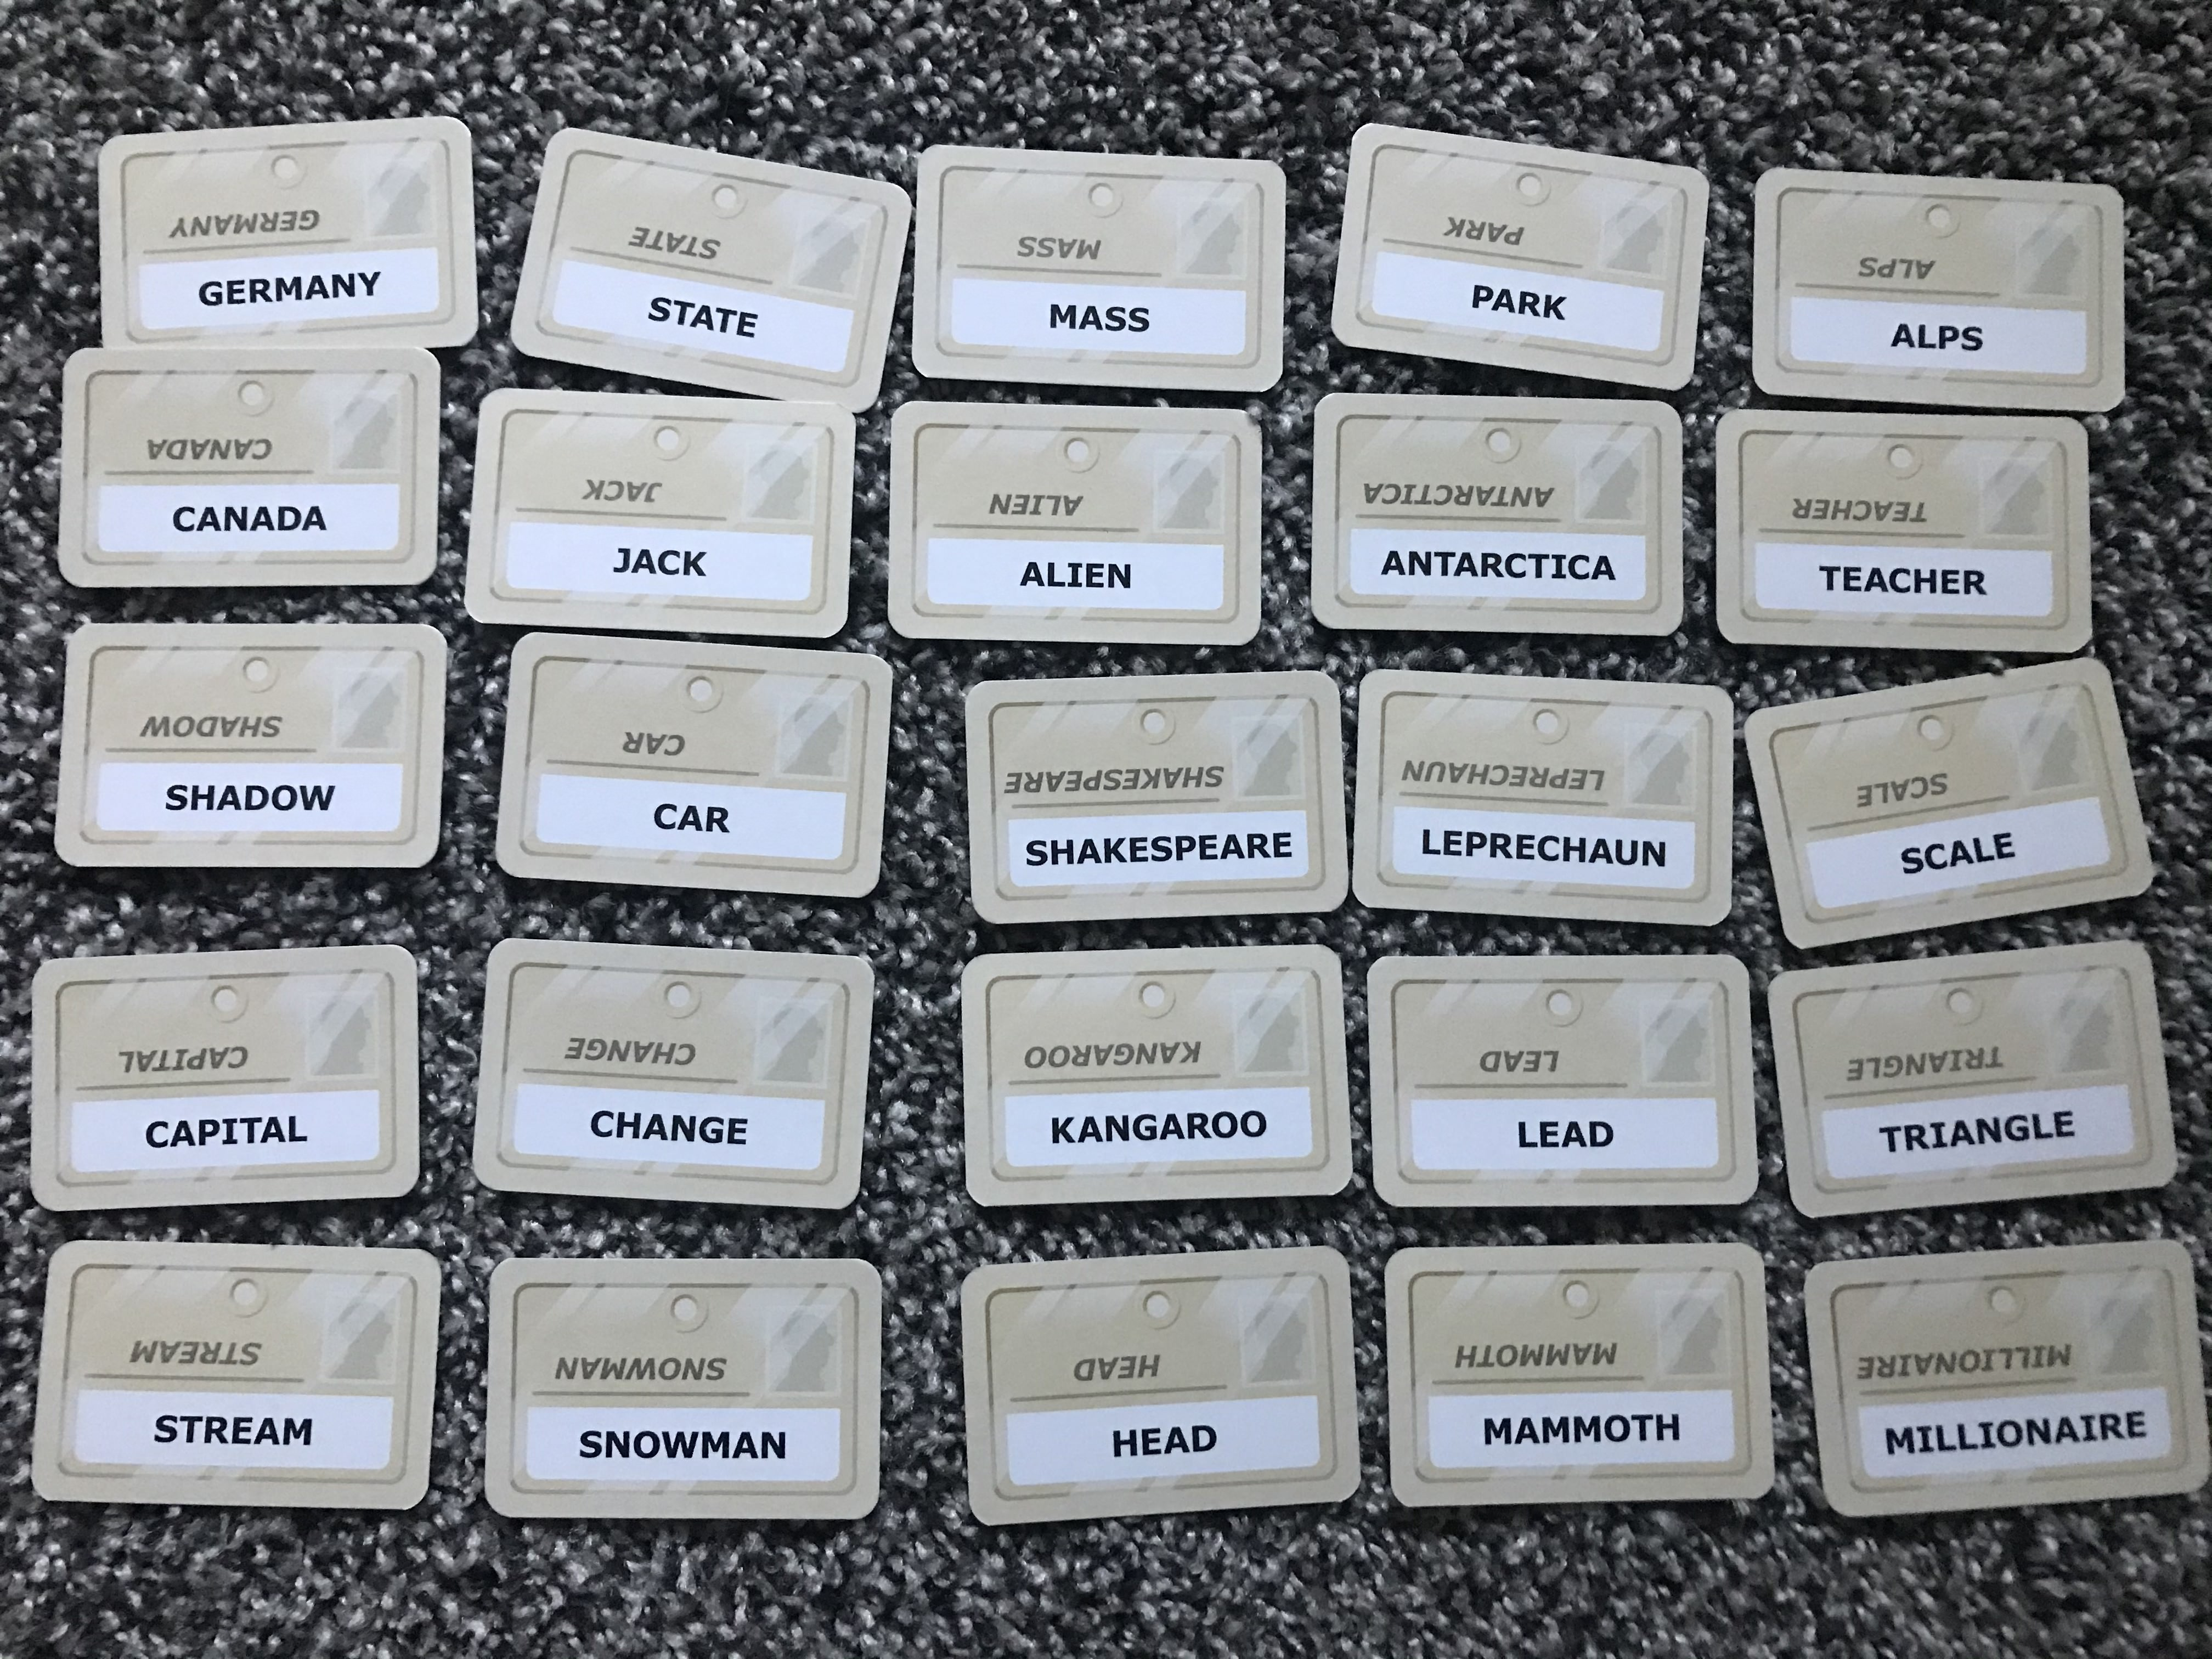A: (249, 1406, 282, 1455), (1946, 1110, 1979, 1157), (639, 1101, 669, 1152), (1451, 544, 1480, 592), (171, 1112, 197, 1166), (1015, 552, 1045, 599), (1160, 1420, 1191, 1464), (247, 498, 277, 544), (1590, 831, 1616, 882), (686, 296, 716, 340), (258, 1110, 284, 1159), (629, 542, 657, 587), (216, 777, 244, 823), (2054, 1406, 2080, 1453), (1078, 298, 1103, 347), (1378, 544, 1407, 584), (1076, 830, 1103, 875), (728, 1424, 756, 1466), (303, 270, 331, 310), (195, 500, 223, 540), (678, 798, 702, 843), (1219, 824, 1244, 870), (1076, 1108, 1101, 1154), (301, 498, 327, 540), (1888, 315, 1914, 356), (1158, 1108, 1184, 1148), (1493, 281, 1517, 322), (1864, 558, 1888, 599), (1561, 1115, 1585, 1157), (1592, 549, 1618, 587), (1946, 835, 1972, 873), (1514, 1412, 1534, 1455)
